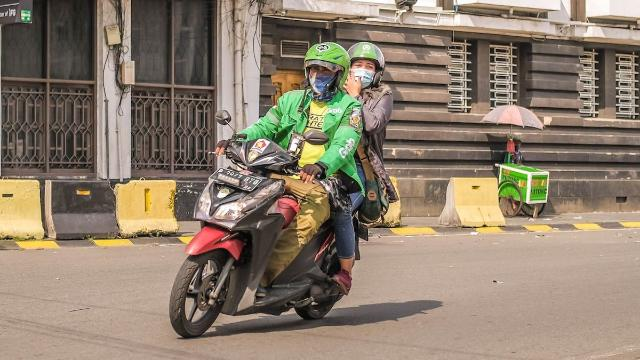helm: (304, 42, 352, 99), (348, 42, 387, 89)
motor: (170, 108, 369, 343)
